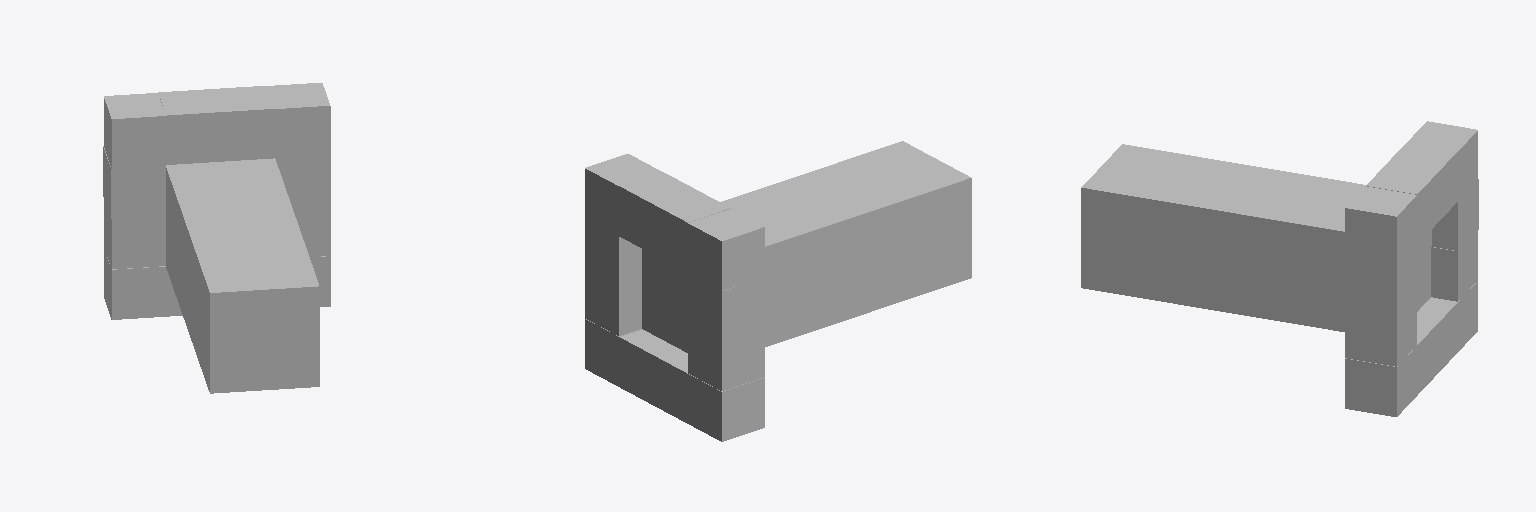
Rendered from torchlightUsing.obj.
3 renders of one model, left to right at view 1: azimuth 30°, elevation 25°; view 2: azimuth 150°, elevation 25°; view 3: azimuth 270°, elevation 25°, orthographic.
Visible parts, largest first — view 1: pCube1 pCube2, pCube1, pCube1 pCube3, pCube1 pCube12, pCube1 pCube6, pCube1 pCube13, pCube1 pCube9, pCube1 pCube15, pCube1 pCube11, pCube1 pCube10, pCube1 pCube4, pCube1 pCube5 (+1 smaller); view 2: pCube1, pCube1 pCube2, pCube1 pCube3, pCube1 pCube12, pCube1 pCube11, pCube1 pCube15, pCube1 pCube10, pCube1 pCube9, pCube1 pCube13, pCube1 pCube6, pCube1 pCube5, pCube1 pCube4 (+3 smaller); view 3: pCube1, pCube1 pCube2, pCube1 pCube3, pCube1 pCube6, pCube1 pCube8, pCube1 pCube5, pCube1 pCube4, pCube1 pCube9, pCube1 pCube10, pCube1 pCube13, pCube1 pCube12, pCube1 pCube11 (+3 smaller).
Boxes of the visible parts, x1,y1,x2,y2 form: pCube1 pCube2: [194, 240, 319, 393]; pCube1: [178, 194, 302, 345]; pCube1 pCube3: [166, 158, 286, 299]; pCube1 pCube12: [104, 93, 165, 169]; pCube1 pCube6: [268, 83, 330, 158]; pCube1 pCube13: [158, 89, 220, 164]; pCube1 pCube9: [213, 86, 275, 161]; pCube1 pCube15: [104, 249, 166, 319]; pCube1 pCube11: [103, 146, 165, 218]; pCube1 pCube10: [104, 200, 165, 268]; pCube1 pCube4: [276, 156, 330, 207]; pCube1 pCube5: [293, 206, 330, 256]; pCube1: [729, 170, 884, 335]; pCube1 pCube2: [817, 141, 971, 306]; pCube1 pCube3: [642, 199, 797, 352]; pCube1 pCube12: [688, 209, 764, 290]; pCube1 pCube11: [688, 274, 765, 340]; pCube1 pCube15: [688, 374, 764, 441]; pCube1 pCube10: [688, 324, 764, 390]; pCube1 pCube9: [619, 172, 695, 254]; pCube1 pCube13: [654, 190, 730, 272]; pCube1 pCube6: [585, 154, 661, 235]; pCube1 pCube5: [585, 268, 641, 335]; pCube1 pCube4: [585, 219, 641, 285]; pCube1: [1184, 161, 1327, 322]; pCube1 pCube2: [1081, 144, 1224, 304]; pCube1 pCube3: [1288, 179, 1431, 331]; pCube1 pCube6: [1345, 186, 1416, 266]; pCube1 pCube8: [1345, 346, 1416, 416]; pCube1 pCube5: [1345, 296, 1416, 366]; pCube1 pCube4: [1345, 246, 1416, 316]; pCube1 pCube9: [1366, 164, 1437, 244]; pCube1 pCube10: [1431, 231, 1477, 301]; pCube1 pCube13: [1387, 143, 1457, 221]; pCube1 pCube12: [1407, 121, 1477, 200]; pCube1 pCube11: [1432, 179, 1478, 250].
Bounding box in the file's own units: 2.6 × 2 × 3.58.